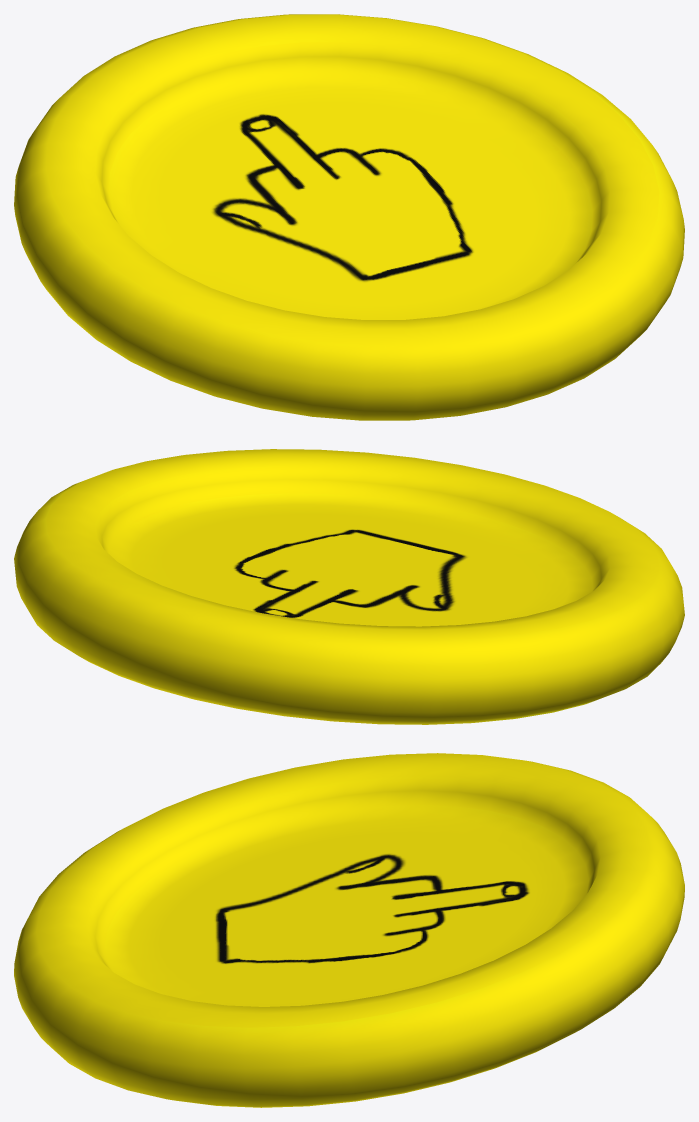
File: Coin.fbx
The picture shows the model from 3 angles, top to bottom: view 1: azimuth 30°, elevation 25°; view 2: azimuth 150°, elevation 25°; view 3: azimuth 270°, elevation 25°; orthographic projection.
Parts seen in each view (by area): view 1: pCylinder1; view 2: pCylinder1; view 3: pCylinder1.
Part boxes in pixels (x1,y1,x2,y2): pCylinder1: (14, 14, 684, 420); pCylinder1: (14, 449, 684, 724); pCylinder1: (14, 753, 684, 1107).
Size of the model in its own units: 2.12 by 0.5613 by 2.1.
Materials: 1 (1 with a texture image).
